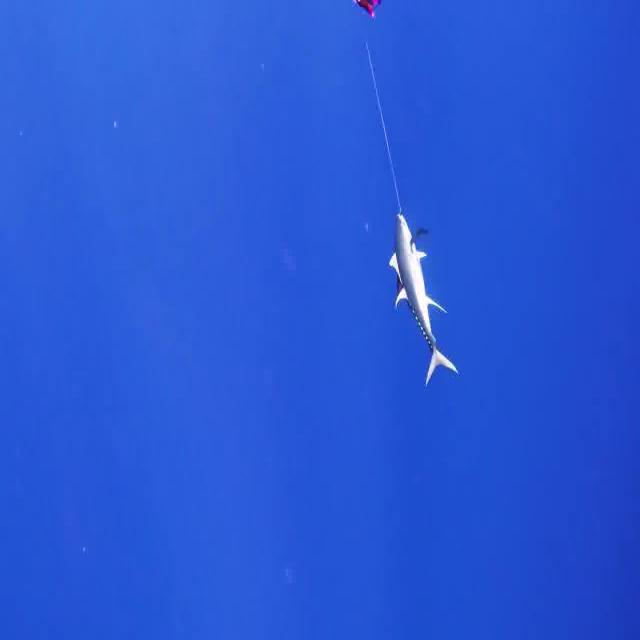Yellowfin Tuna: (388, 210, 460, 388)
